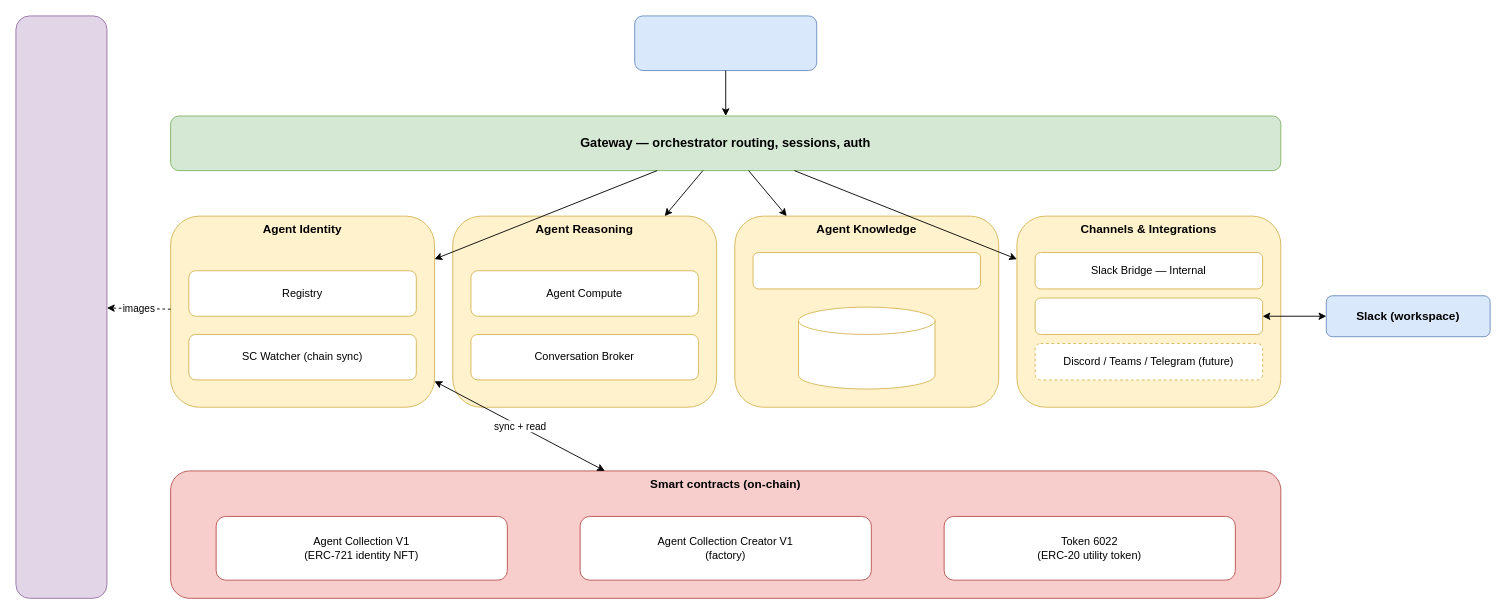
The diagram is 1506 pixels wide and 614 high, and some of its shapes have lost their labels. The shapes that lost their labels are listed below. From the top down, each one's centre as x and y in pixels, then its label:
At (x=725, y=43): "Web UI".
At (x=866, y=270): "Database Connector Host".
At (x=61, y=306): "IPFS (Kubo)".
At (x=1148, y=315): "Slack Bridge — External".
At (x=866, y=347): "Per-agent Postgres".
